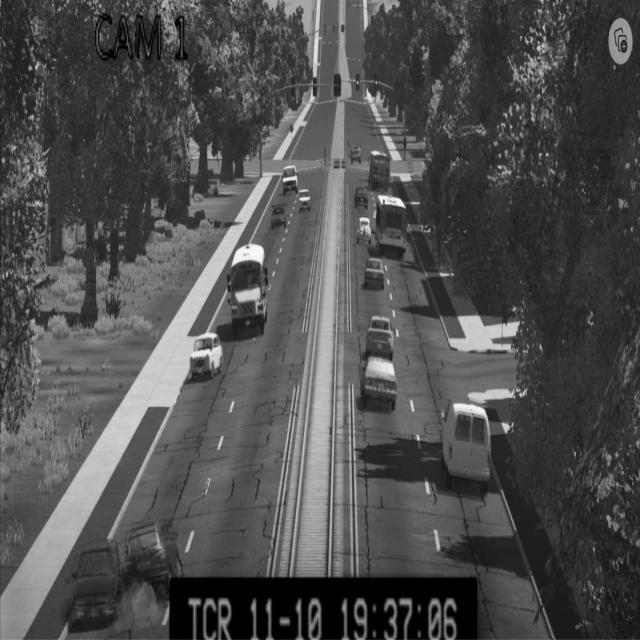accident: (67, 509, 184, 629)
vehicle: (438, 398, 494, 494), (227, 243, 270, 343), (375, 191, 407, 263), (361, 351, 399, 407), (188, 331, 222, 381), (365, 313, 396, 357), (368, 147, 390, 193), (362, 254, 386, 292), (268, 198, 290, 238), (281, 163, 299, 199), (295, 186, 315, 218), (356, 214, 374, 248), (352, 181, 370, 212), (348, 143, 364, 167)
